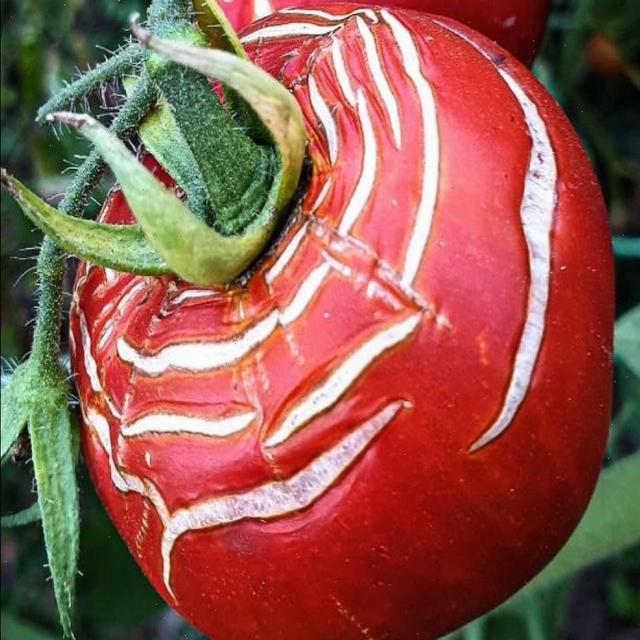Cracking Fruit: (89, 148, 331, 323)
